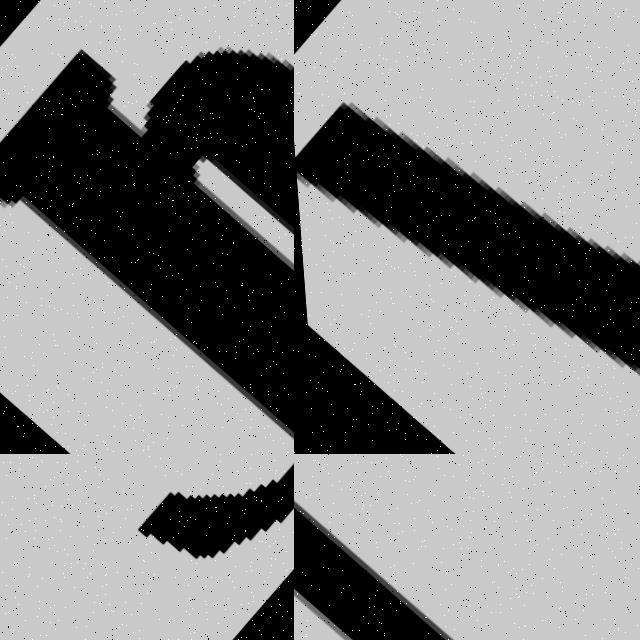3: (0, 454, 294, 640)
I: (294, 454, 590, 640)
P: (0, 48, 294, 448)
R: (294, 0, 640, 454)
